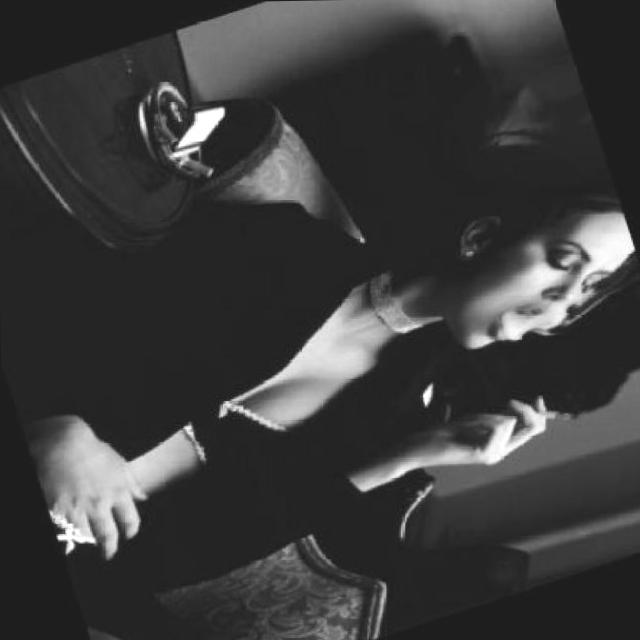cigarette: (521, 394, 576, 434)
